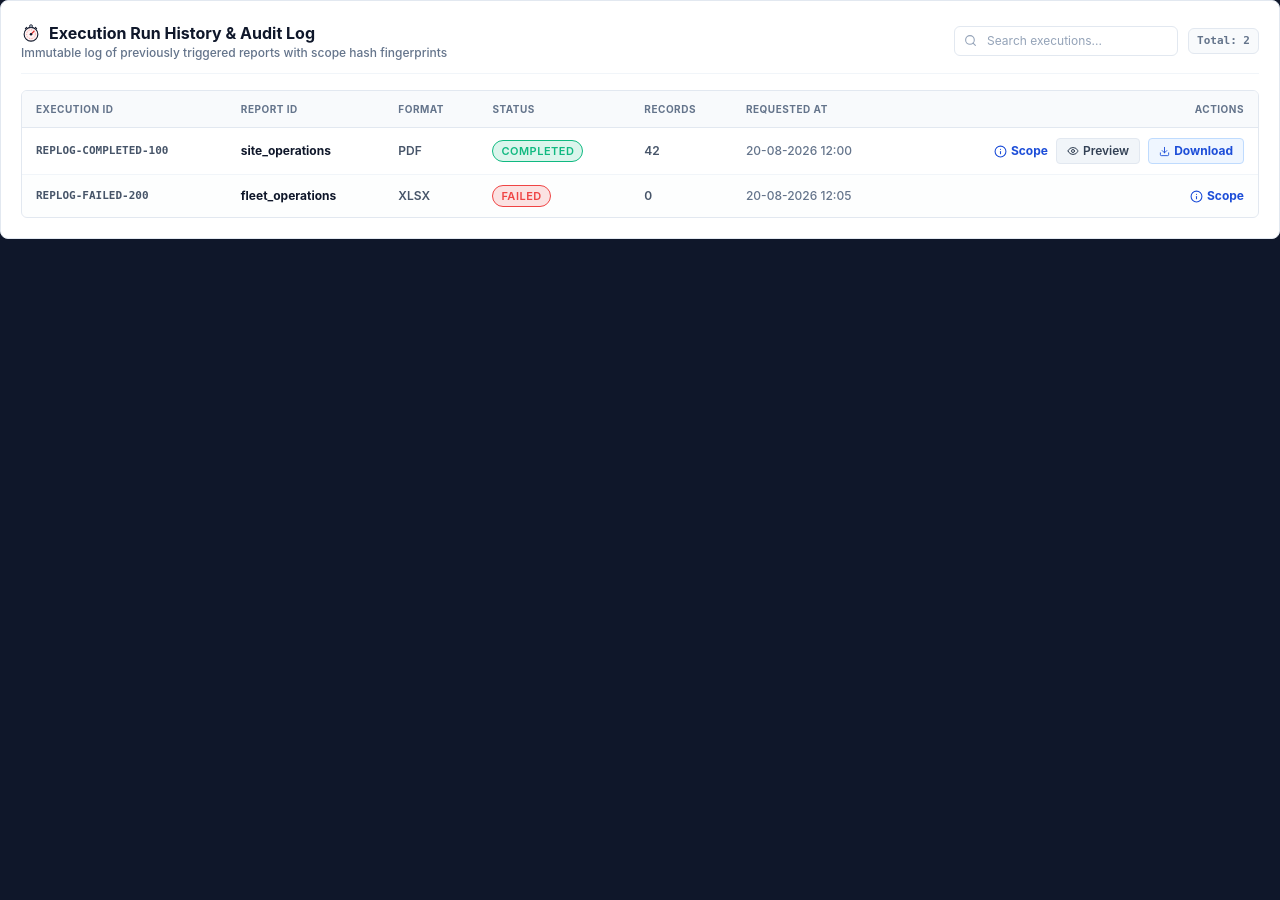
WS6.2 - Report Execution History Table Suite › 2. opens scope modal when Scope button is clicked
The image size is (1280, 900).
Click the button with test id "scope-btn-REPLOG-COMPLETED-100" at (1021, 151), box x1=994 y1=143 x2=1048 y2=159
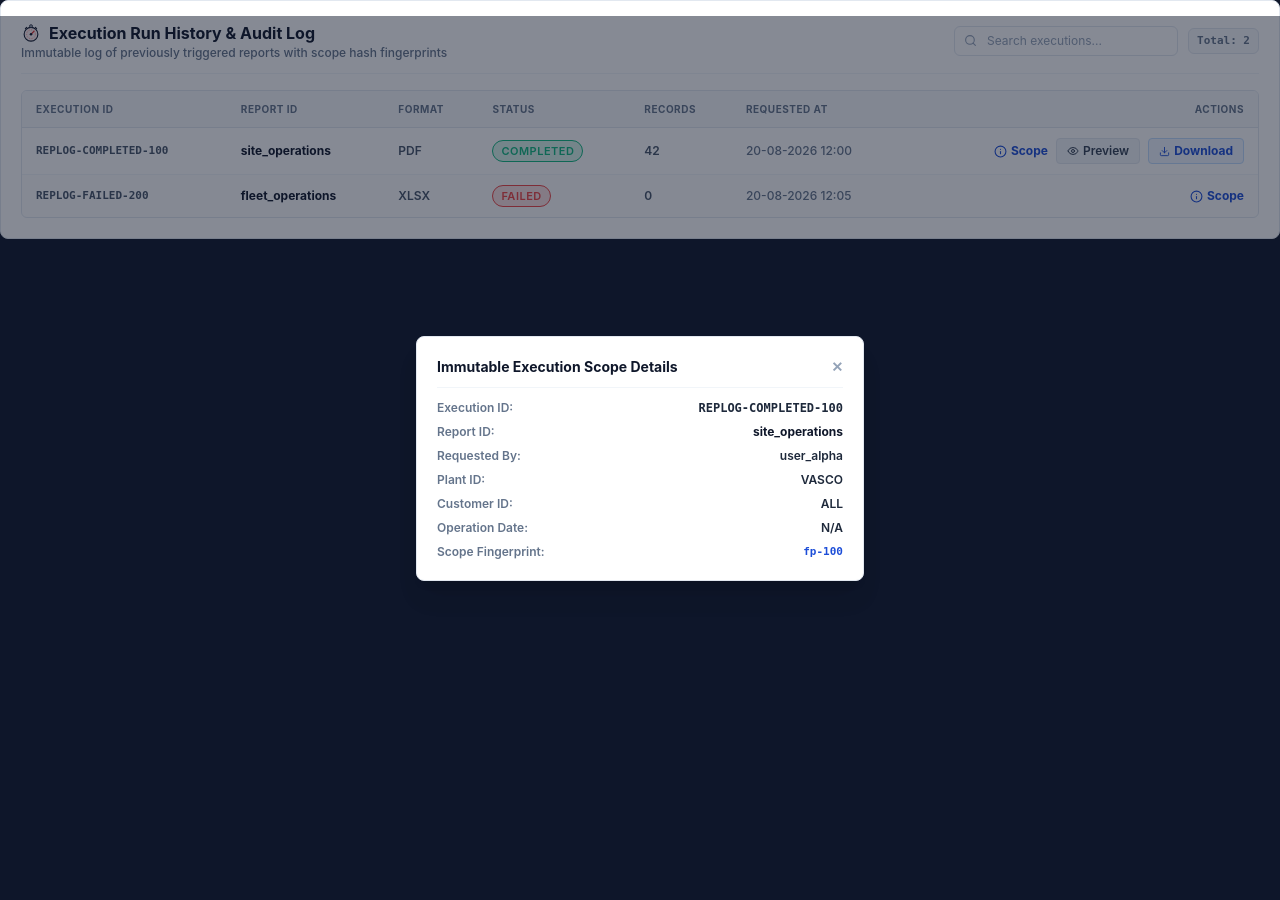
Expected: the element with test id "execution-scope-modal" is shown
Expected: the heading "Immutable Execution Scope Details" is shown, x1=437 y1=356 x2=678 y2=376
Expected: the text "fp-100" is shown, x1=803 y1=544 x2=843 y2=560
